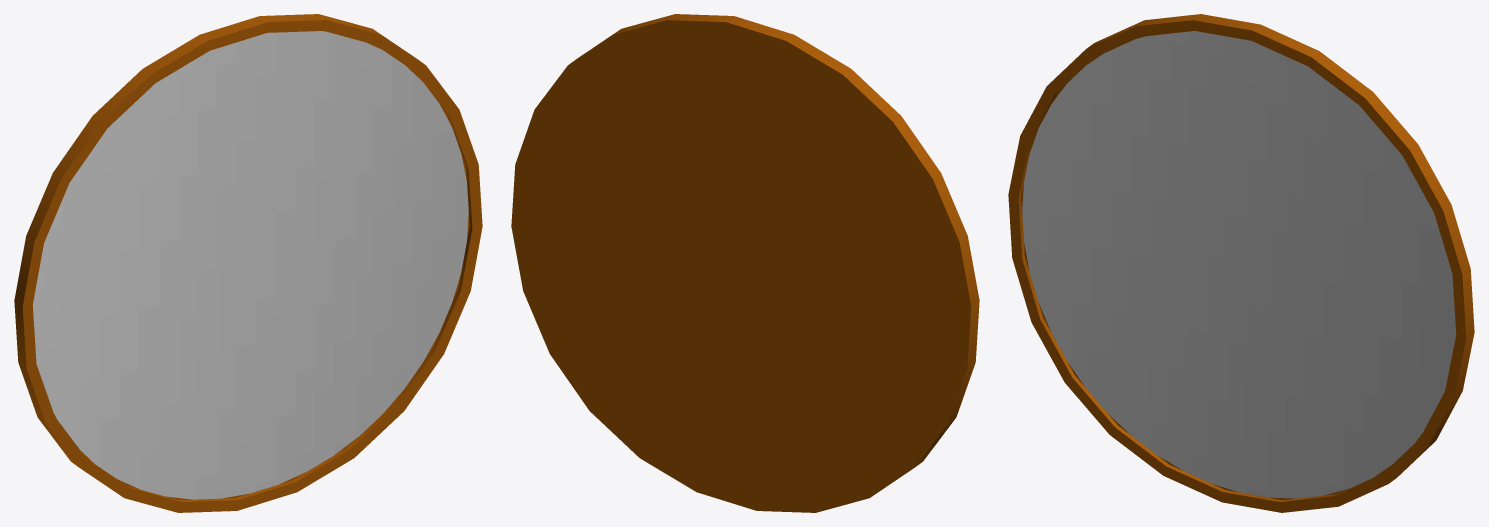
The model's file is mirror 1.glb.
3 views of the same model, side by side, from view 1: azimuth 30°, elevation 25°; view 2: azimuth 150°, elevation 25°; view 3: azimuth 330°, elevation 25° (orthographic).
Parts seen in each view (by area): view 1: mirror, frame; view 2: frame; view 3: mirror, frame.
Part boxes in pixels (<box>): mirror: <box>33,31,468,499</box>; frame: <box>14,14,482,512</box>; frame: <box>511,14,979,512</box>; mirror: <box>1022,31,1456,498</box>; frame: <box>1008,14,1474,512</box>.
Bounding box in the file's own units: 37.71 × 37.71 × 1.18.
Materials: 2 (1 with a texture image).
